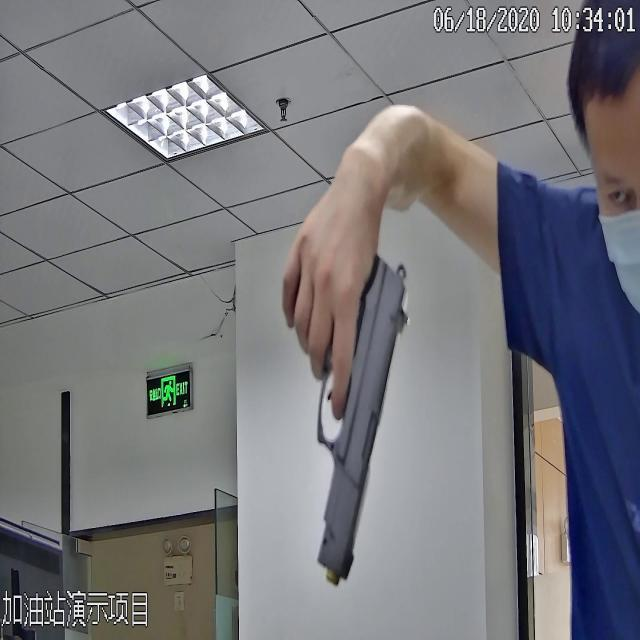gun-knife-thesis - v11 Yolov5 augmented: (273, 233, 408, 569)
